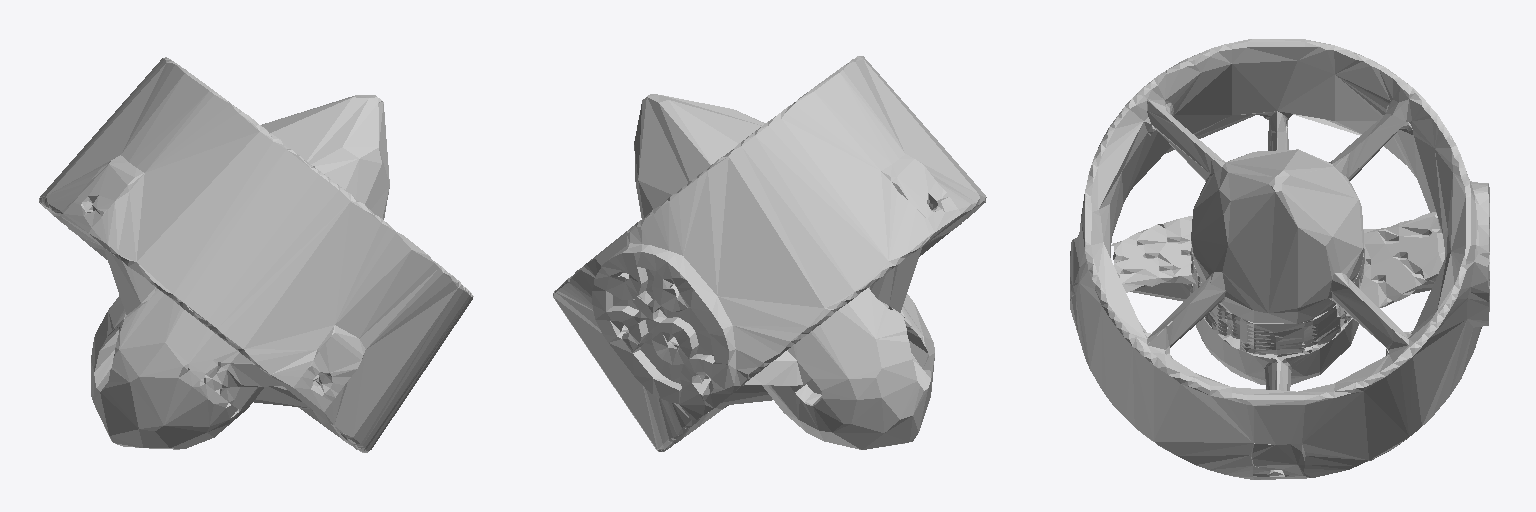
Rendered from lf-thruster_visual_lf-thruster.obj.
The picture shows the model from 3 angles: view 1: azimuth 30°, elevation 25°; view 2: azimuth 150°, elevation 25°; view 3: azimuth 270°, elevation 25°; orthographic projection.
Parts seen in each view (by area): view 1: lf-thruster_visual_lf-thruster; view 2: lf-thruster_visual_lf-thruster; view 3: lf-thruster_visual_lf-thruster.
Part boxes in pixels (bbox=[...]): lf-thruster_visual_lf-thruster: bbox=[39, 57, 473, 452]; lf-thruster_visual_lf-thruster: bbox=[553, 56, 986, 451]; lf-thruster_visual_lf-thruster: bbox=[1070, 39, 1489, 479].
Size of the model in its own units: 0.0964 by 0.0964 by 0.0975.